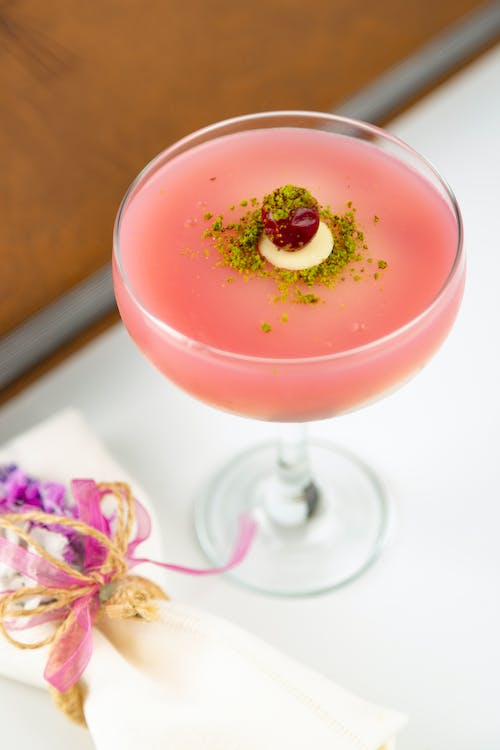alcohol: (109, 110, 469, 600)
